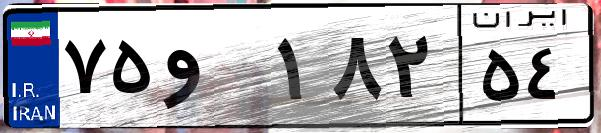1: (270, 28, 330, 110)
2: (385, 28, 445, 110)
4: (525, 38, 570, 115)
5: (475, 38, 525, 113), (110, 28, 158, 98)
7: (57, 26, 110, 100)
8: (330, 28, 385, 110)
و: (158, 20, 270, 120)
